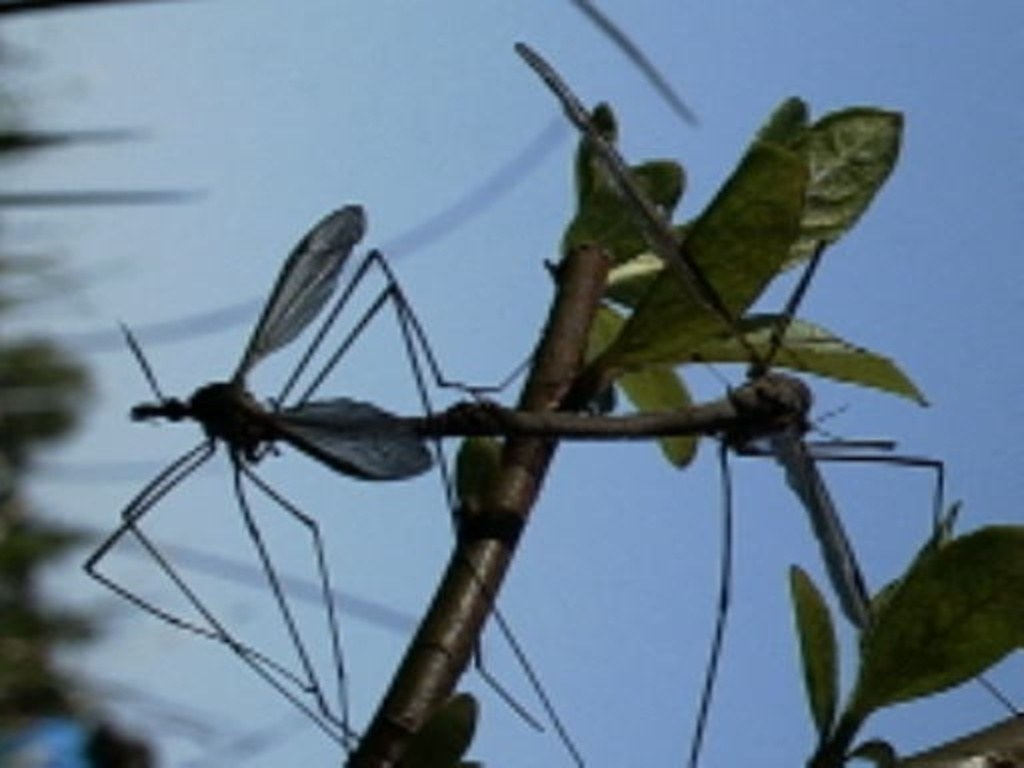insect: (466, 38, 1022, 766), (82, 200, 588, 766)
